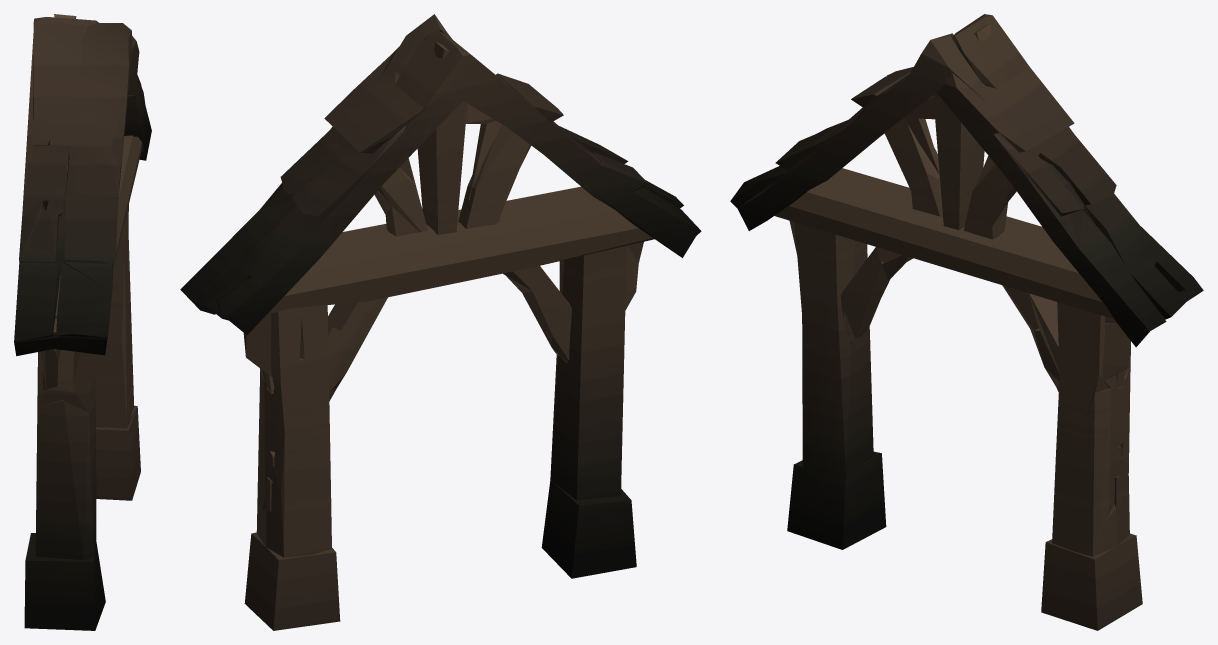
File: EA_Grave_Archway_Wood_01a.glb
3 renders of one model, left to right at view 1: azimuth 30°, elevation 25°; view 2: azimuth 150°, elevation 25°; view 3: azimuth 270°, elevation 25°, orthographic. The views are drawn at different scales.
Parts seen in each view (by area): view 1: EA_Grave_Archway_Wood_01a; view 2: EA_Grave_Archway_Wood_01a; view 3: EA_Grave_Archway_Wood_01a.
Part boxes in pixels (<box>): EA_Grave_Archway_Wood_01a: <box>14,14,151,630</box>; EA_Grave_Archway_Wood_01a: <box>180,14,701,630</box>; EA_Grave_Archway_Wood_01a: <box>730,14,1203,630</box>.
Bounding box in the file's own units: 2.61 × 4.15 × 3.29.
1 material, 1 textured.
